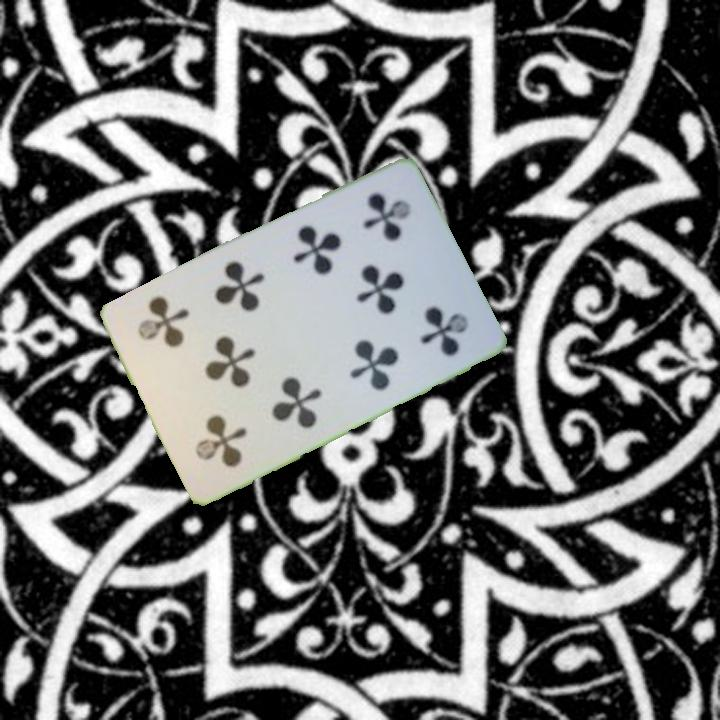c_10.png: (324, 170, 445, 296), (158, 362, 279, 488)
